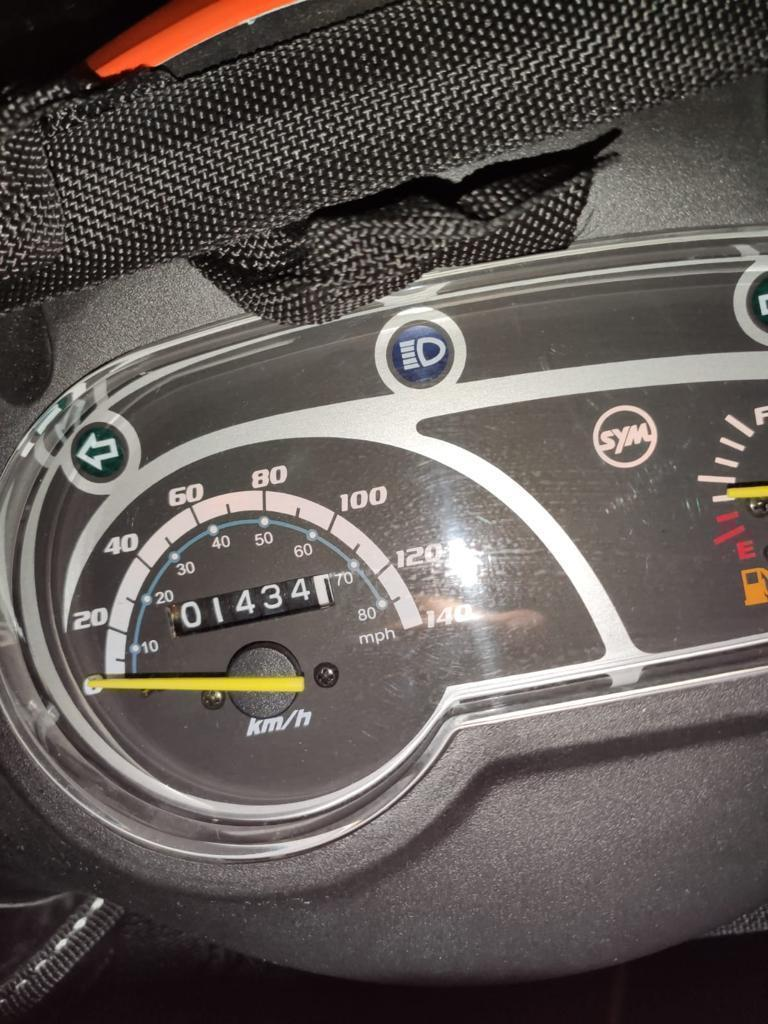0: (179, 600, 201, 628), (164, 589, 173, 603)
1: (212, 596, 224, 623), (323, 578, 333, 603)
3: (260, 583, 282, 609)
4: (234, 588, 256, 614), (290, 577, 310, 600)
odometer: (165, 574, 335, 640)
